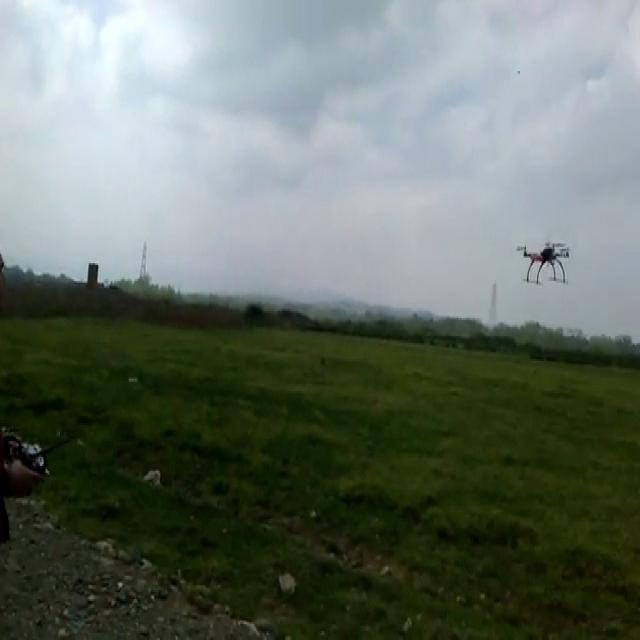drone: (513, 240, 574, 283)
